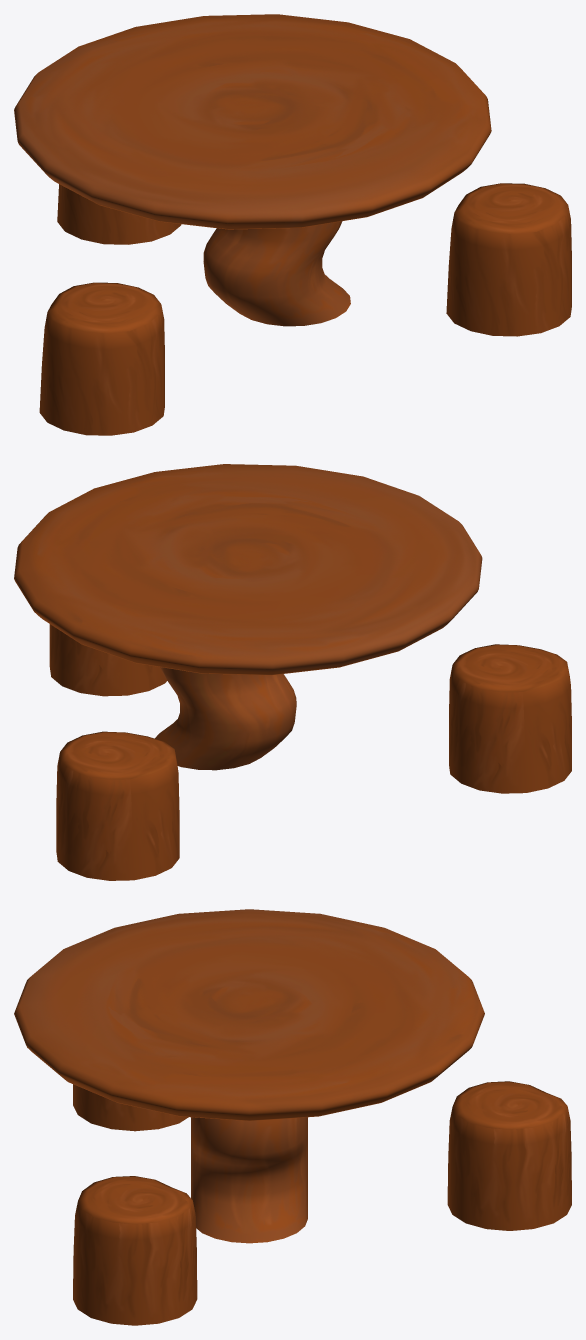
Rendered from MesaYBancos.fbx.
3 renders of one model, top to bottom at view 1: azimuth 30°, elevation 25°; view 2: azimuth 150°, elevation 25°; view 3: azimuth 270°, elevation 25°, orthographic. The views are drawn at different scales.
Visible parts, largest first — view 1: Circle.001, pCylinder2, pCylinder1, Circle, pCylinder3; view 2: Circle.001, pCylinder3, pCylinder1, Circle, pCylinder2; view 3: Circle.001, pCylinder3, pCylinder2, Circle, pCylinder1.
Part boxes in pixels (box(x1,y1,x2,y2)): Circle.001: box(14, 14, 491, 229); pCylinder2: box(446, 183, 571, 336); pCylinder1: box(39, 282, 164, 435); Circle: box(203, 221, 350, 326); pCylinder3: box(57, 184, 181, 244); Circle.001: box(14, 464, 482, 675); pCylinder3: box(56, 731, 179, 880); pCylinder1: box(449, 644, 571, 793); Circle: box(155, 667, 296, 770); pCylinder2: box(49, 624, 167, 696); Circle.001: box(14, 909, 484, 1120); pCylinder3: box(447, 1081, 571, 1230); pCylinder2: box(73, 1176, 197, 1325); Circle: box(191, 1117, 307, 1243); pCylinder1: box(73, 1084, 188, 1131).
Bounding box in the file's own units: 516 × 198 × 493.
